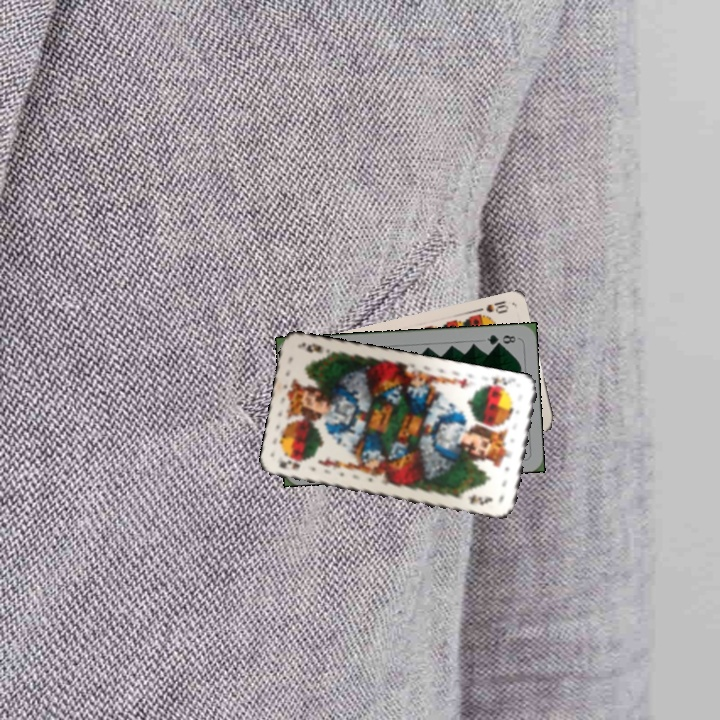G8: (483, 330, 518, 348)
S10: (471, 297, 511, 320)
SK: (480, 373, 516, 393), (275, 455, 303, 472)
